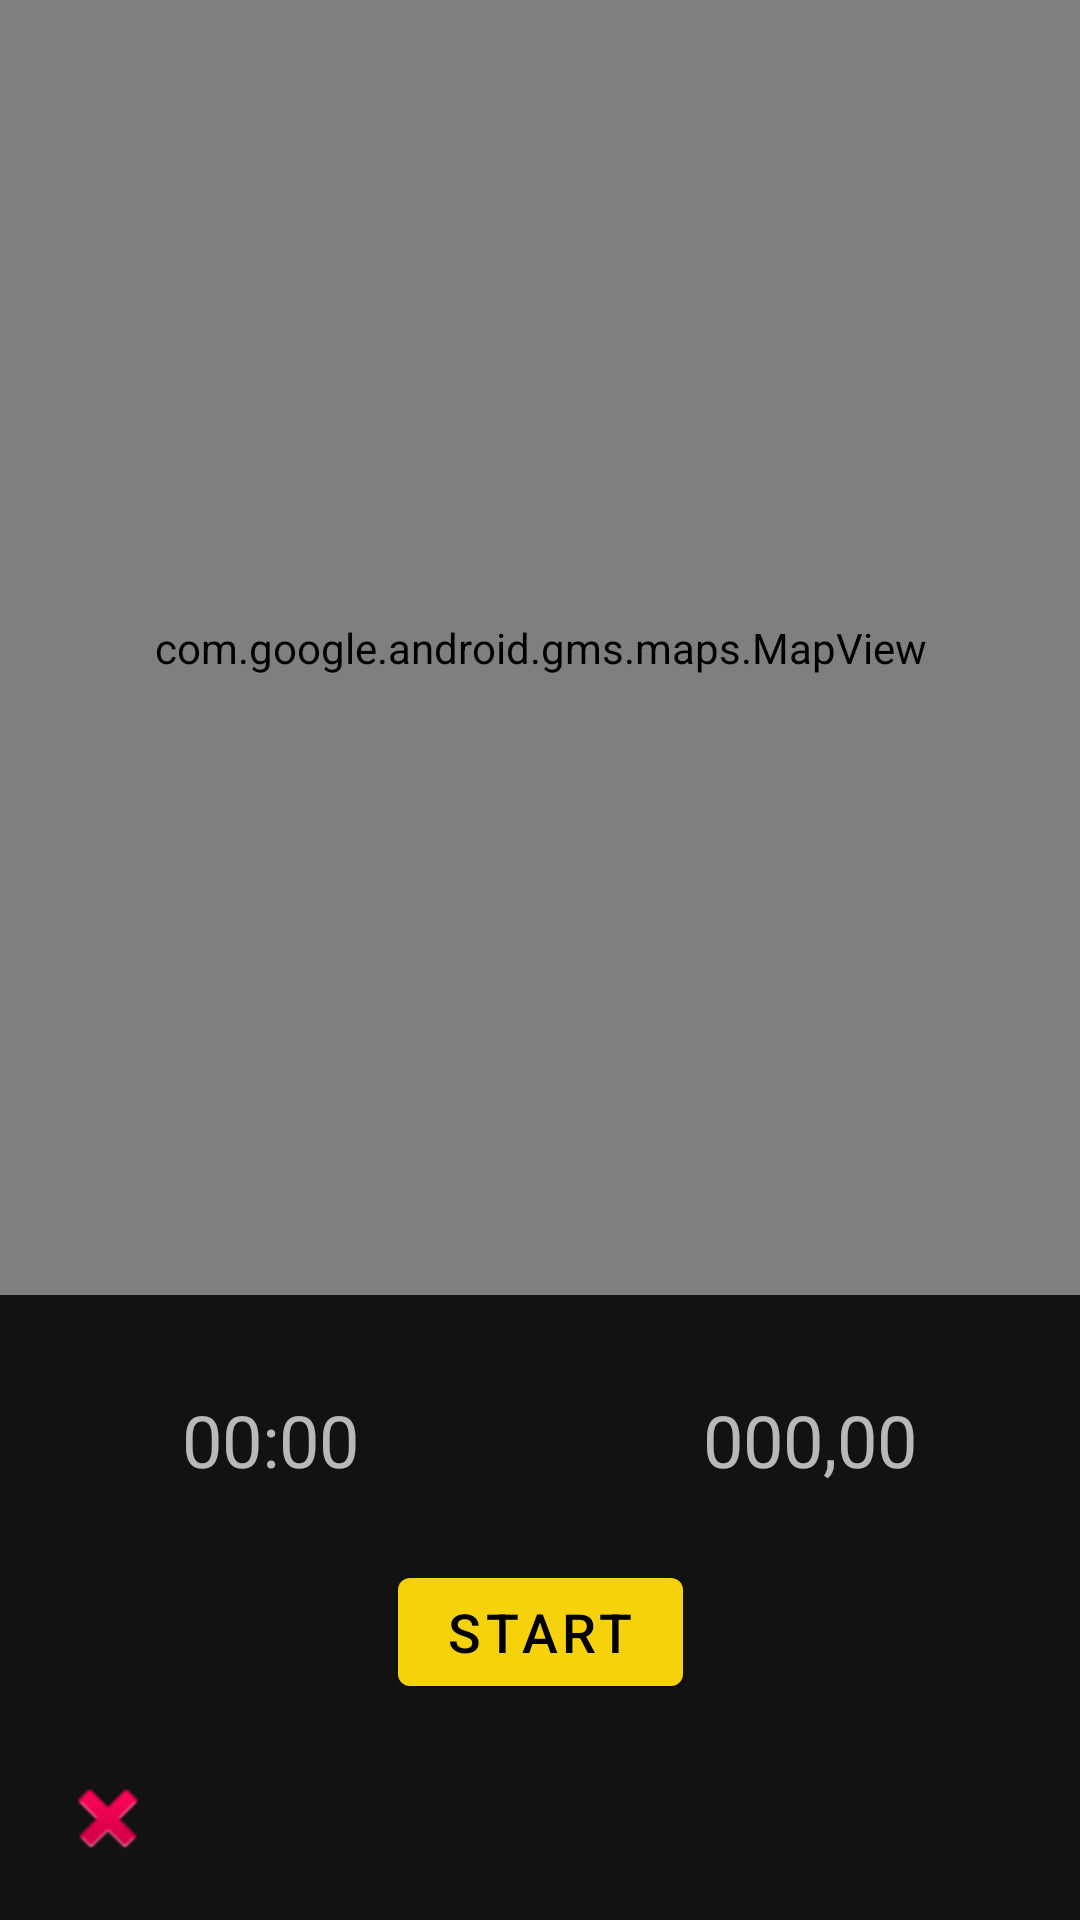

Icon click points for this 1080*1920 phone screenshot, format [x,y]:
cancel tracking without saving to db: [108,1818]
